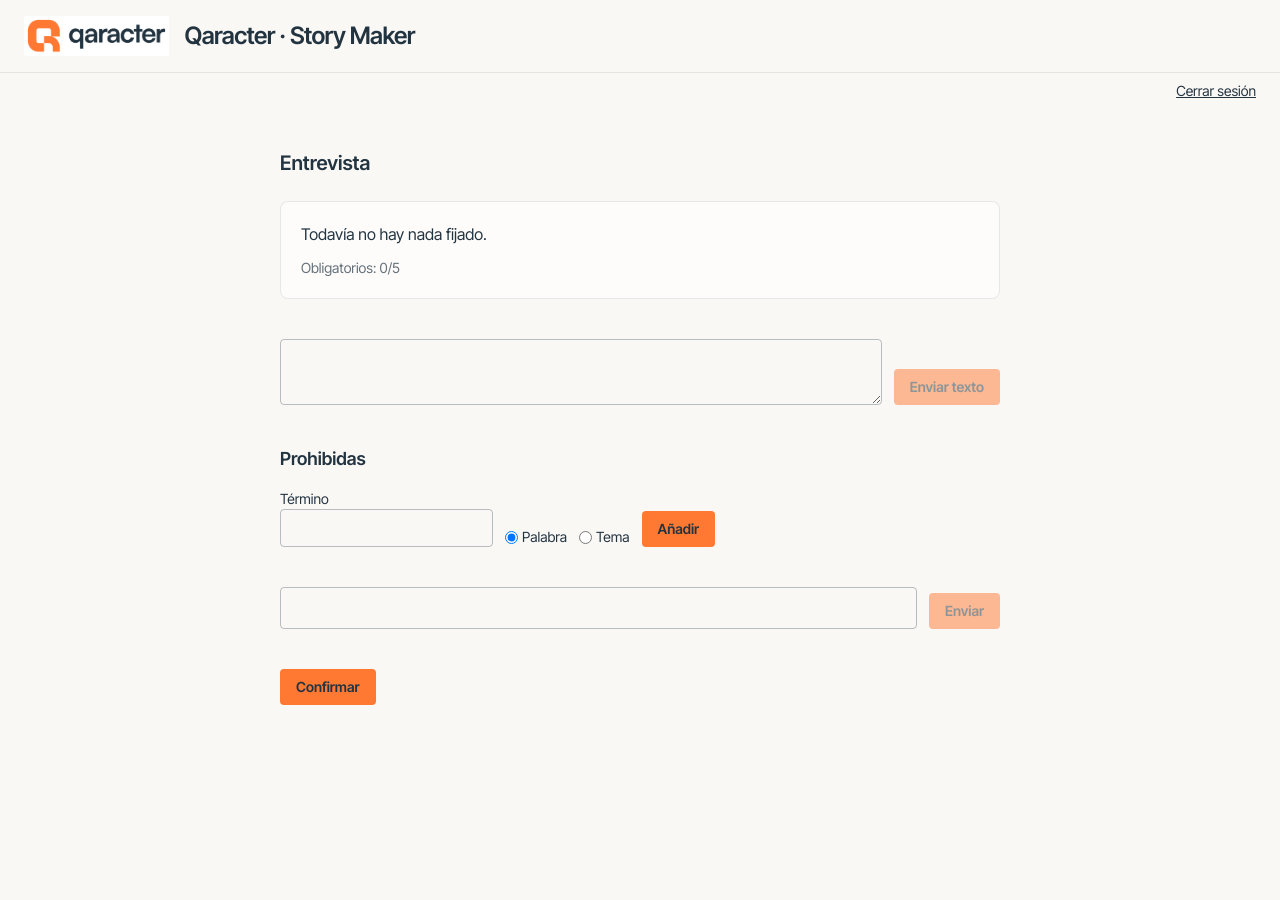
024 entrevista: texto libre y hechos extraídos › 024-C07: sending a free text shows its verified facts, and clears the field
The width and height of the screenshot is (1280, 900).
Expected: the form named "Entrevista" is shown, [280,587,1000,629]
In the text box named "Texto libre": [581, 372] box [280,339,882,405], type "Cumple 40 años"
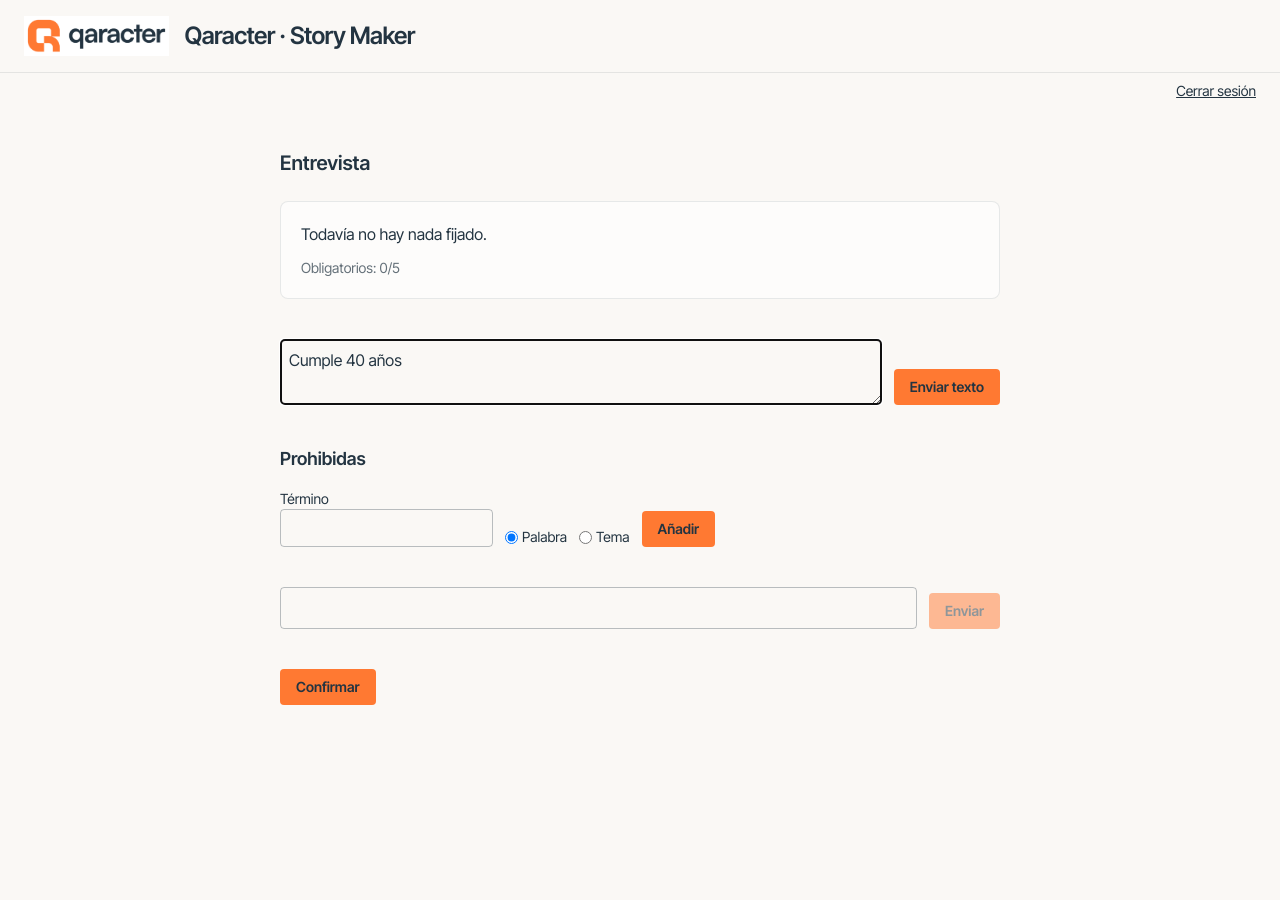
Click the button "Enviar texto": [947, 387] box [894,369,1000,405]
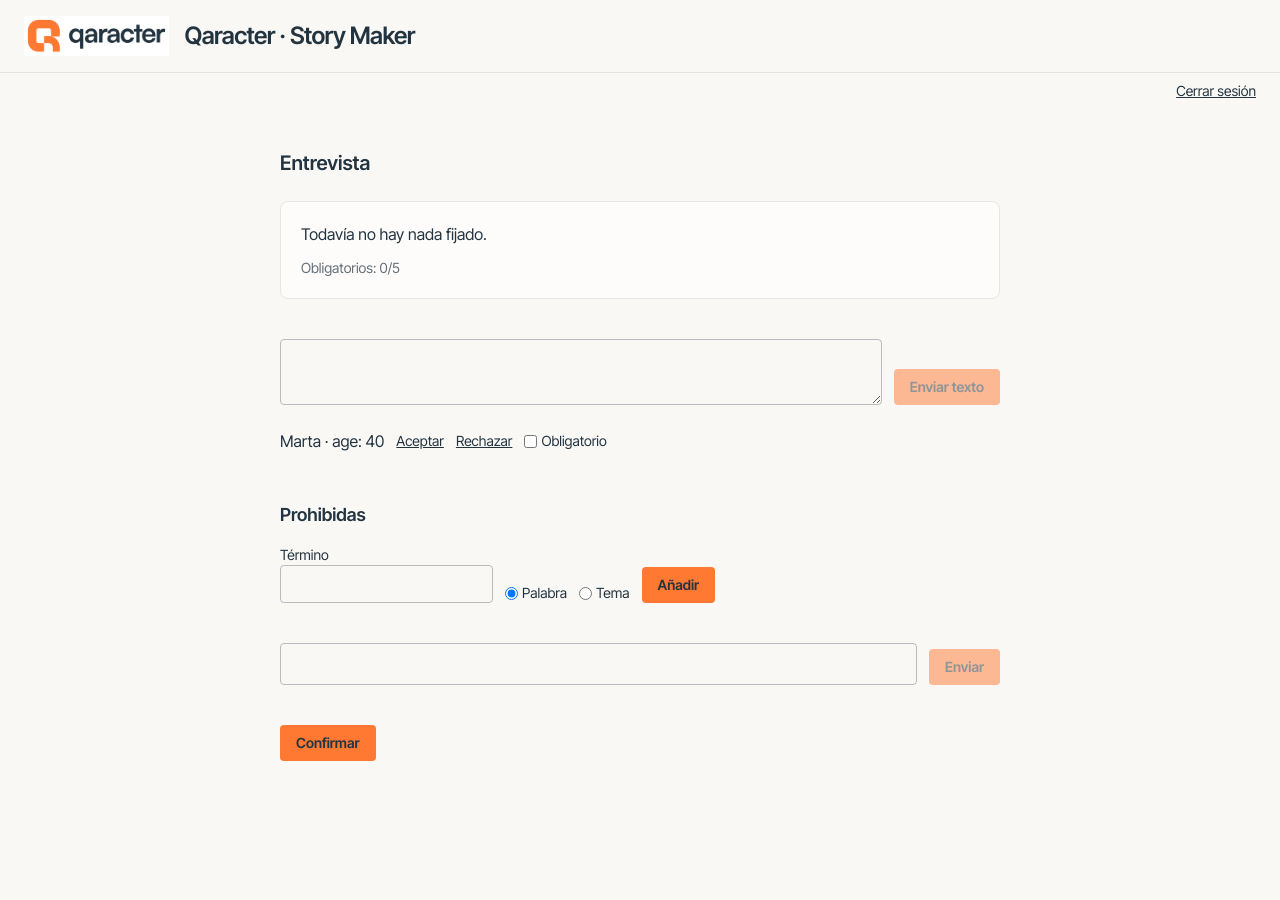
Expected: the text "Marta · age: 40" is shown, [280,429,384,453]
Expected: the text box named "Texto libre" is empty, [280,339,882,405]
